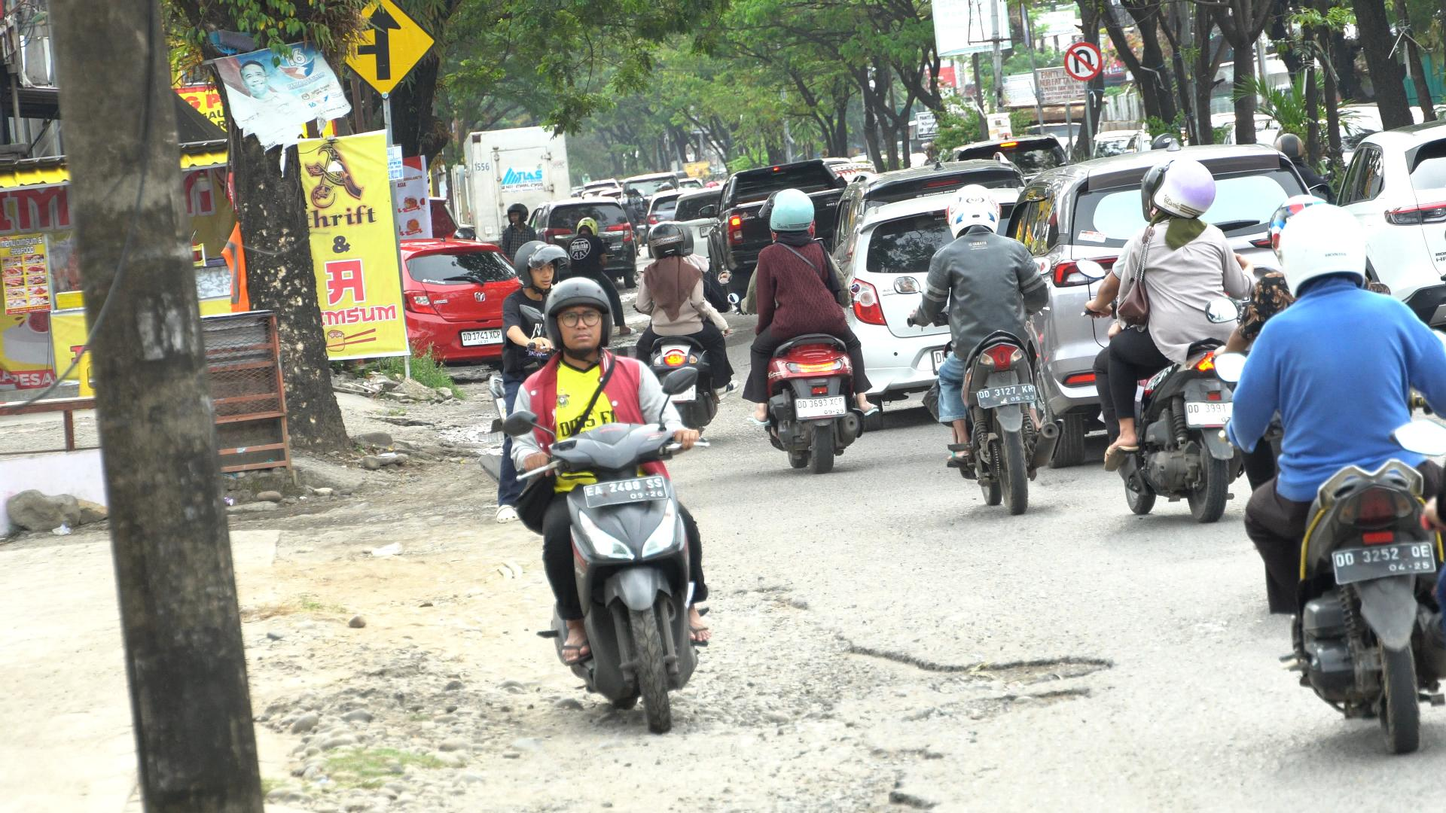number-plate: (585, 467, 667, 516)
